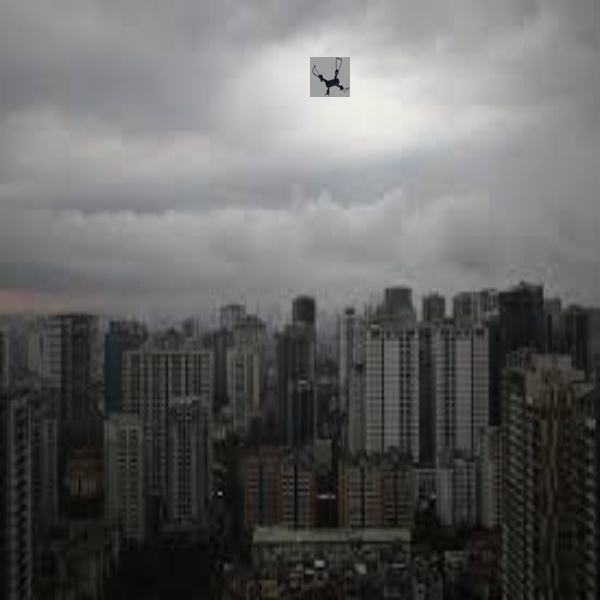drone: (309, 55, 349, 97)
